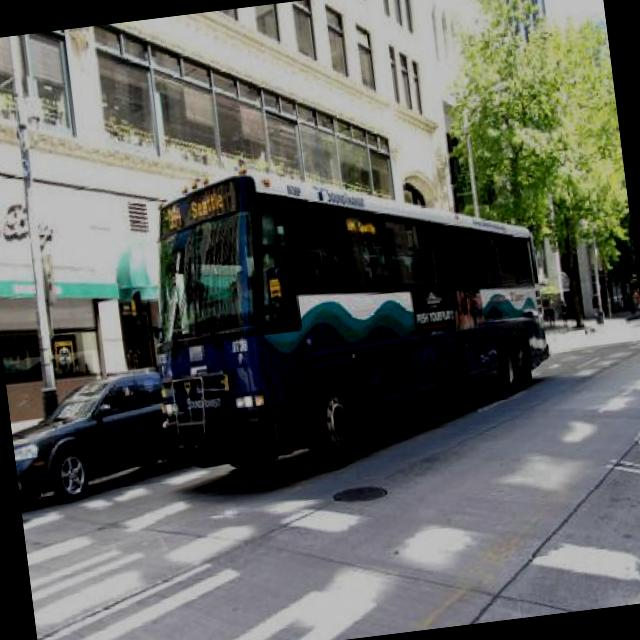Person: (544, 294, 555, 326), (556, 296, 565, 324), (590, 288, 598, 316), (634, 287, 640, 309)
